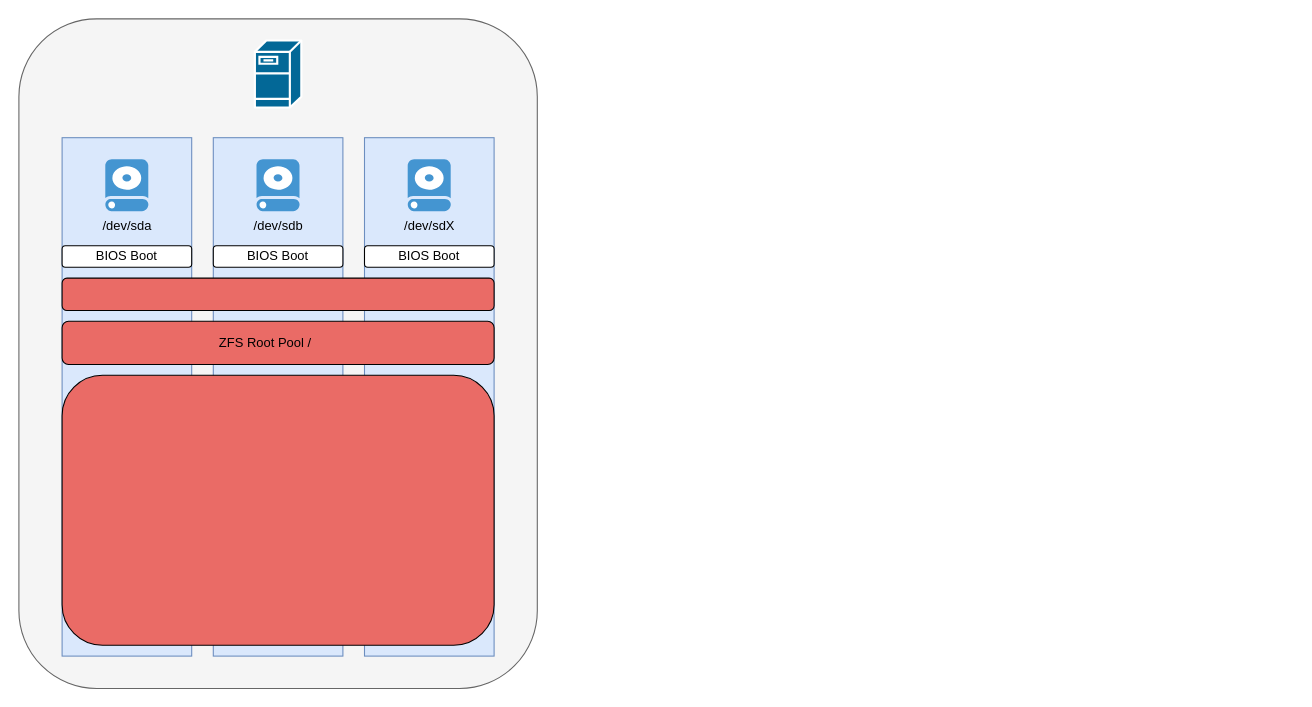
The diagram is 1312 pixels wide and 707 high, and some of its shapes have lost their labels. The centre of each missing label's shape, as x and y in pixels:
node-0001: the point at 277,73
ZFS Boot Pool /boot: the point at 277,293
ZFS Data Pool /opt/containers/ /opt/apps/: the point at 277,509
